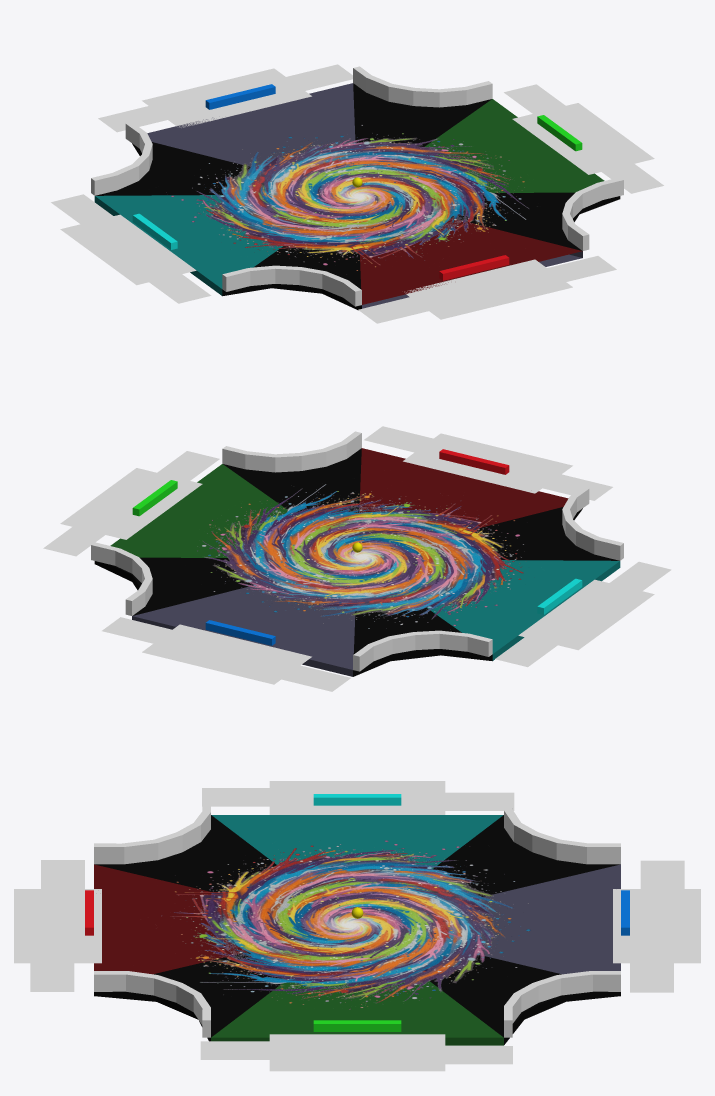
File: pong4p.glb
The picture shows the model from 3 angles, top to bottom: view 1: azimuth 30°, elevation 25°; view 2: azimuth 150°, elevation 25°; view 3: azimuth 270°, elevation 25°; orthographic projection. The views are drawn at different scales.
Visible parts, largest first — view 1: court, court-galaxy-alpha, alias1, alias3, alias4, alias2, wall.003, wall, wall.002, wall.001, score4.1, score2.1 (+10 smaller); view 2: court, court-galaxy-alpha, alias2, alias4, alias1, alias3, wall.001, wall.002, wall.003, wall, score1.2, score4.1 (+10 smaller); view 3: court, court-galaxy-alpha, alias3, alias2, alias1, alias4, wall.002, wall, wall.003, wall.001, score2.2, score1.2 (+8 smaller).
Boxes of the visible parts, x1,y1,x2,y2 form: court: [94, 83, 620, 310]; court-galaxy-alpha: [166, 124, 529, 274]; alias1: [404, 259, 572, 319]; alias3: [512, 103, 654, 174]; alias4: [60, 214, 196, 285]; alias2: [142, 68, 311, 127]; wall.003: [353, 66, 492, 107]; wall: [222, 265, 361, 306]; wall.002: [91, 122, 152, 195]; wall.001: [562, 177, 623, 250]; score4.1: [51, 194, 121, 230]; score2.1: [272, 64, 352, 94]; court: [94, 448, 620, 676]; court-galaxy-alpha: [197, 484, 526, 629]; alias2: [142, 624, 311, 684]; alias4: [518, 579, 654, 650]; alias1: [403, 433, 572, 493]; alias3: [60, 468, 202, 539]; wall.001: [222, 431, 361, 472]; wall.002: [353, 630, 492, 671]; wall.003: [91, 542, 152, 615]; wall: [562, 487, 623, 560]; score1.2: [364, 426, 448, 456]; score4.1: [495, 631, 565, 667]; court: [94, 815, 620, 1045]; court-galaxy-alpha: [161, 840, 530, 1009]; alias3: [269, 1034, 445, 1071]; alias2: [613, 889, 700, 963]; alias1: [14, 889, 101, 963]; alias4: [269, 781, 445, 814]; wall.002: [504, 797, 620, 864]; wall: [94, 797, 210, 864]; wall.003: [504, 971, 620, 1037]; wall.001: [94, 971, 210, 1037]; score2.2: [640, 860, 684, 897]; score1.2: [30, 954, 74, 991].
Size of the model in its own units: 23.45 by 2 by 23.45.
17 materials, 1 textured.
